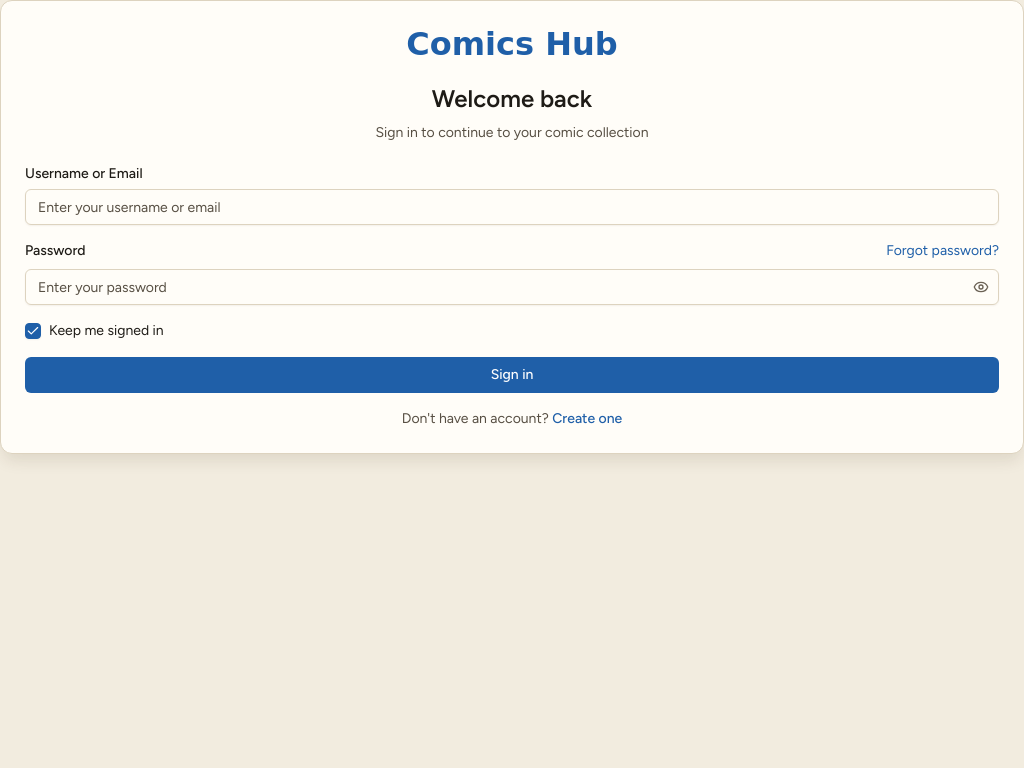
LoginPage › dismisses error banner when dismiss is clicked
The image size is (1024, 768).
In the field labelled "Username or Email": (512,207) top-left (25, 189), bottom-right (999, 225), type "testuser"
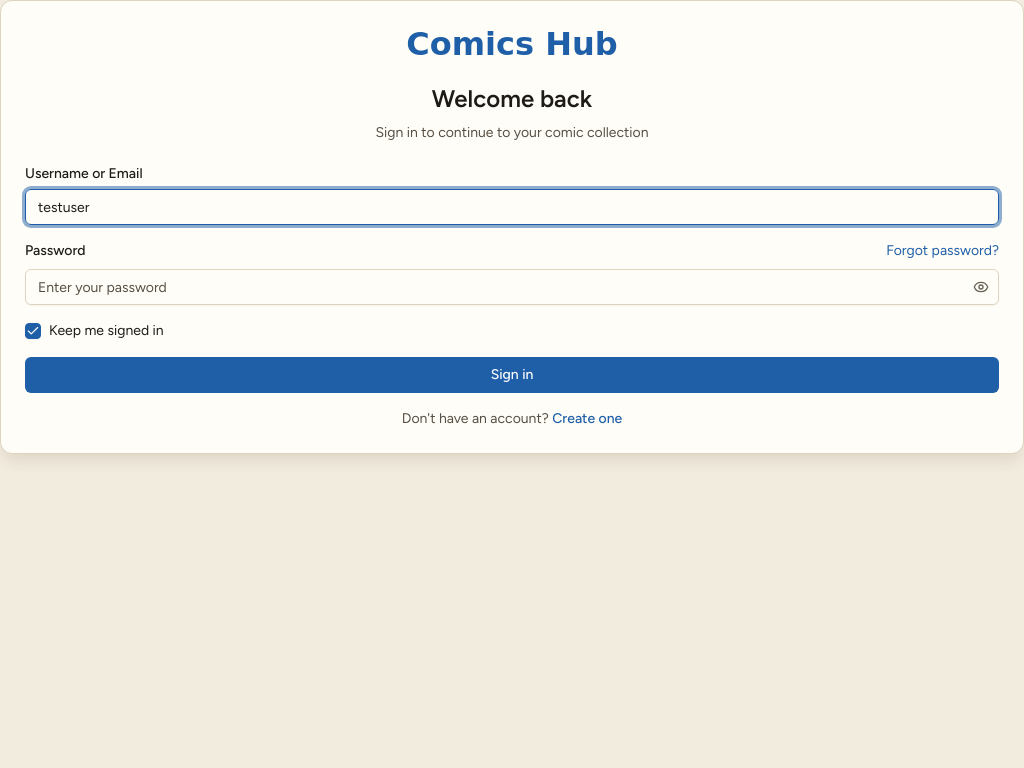
In the password field labelled "Password": (512,287) top-left (25, 269), bottom-right (999, 305), type "Password1!"
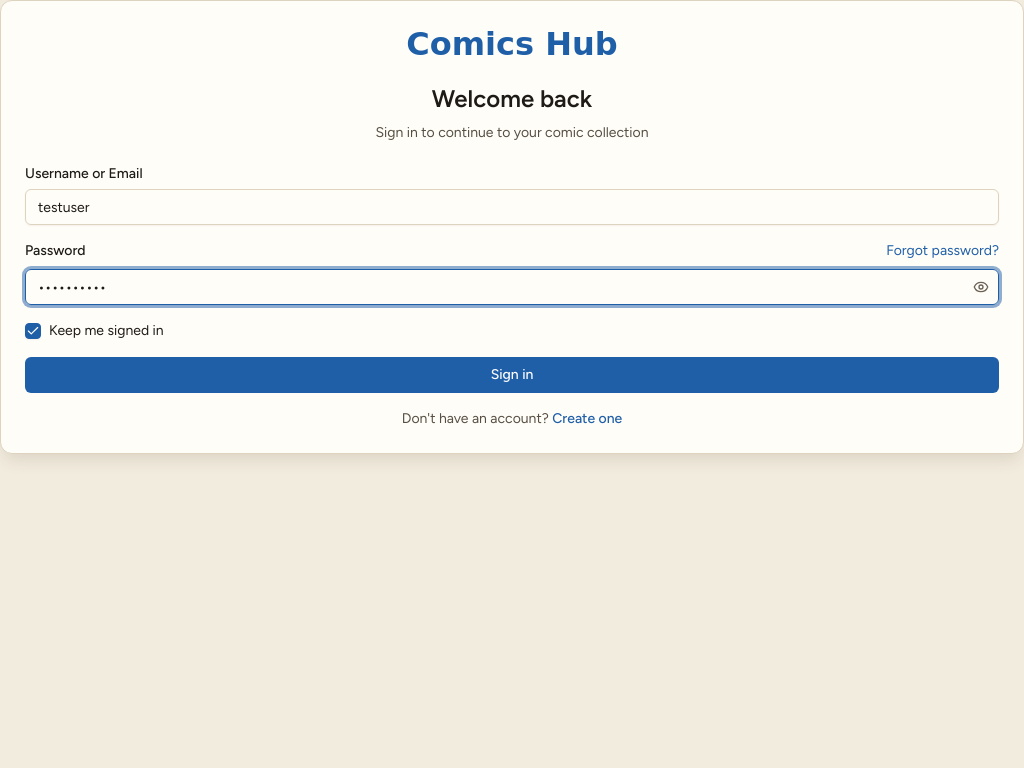
Click the button "Sign in": (512,375) top-left (25, 357), bottom-right (999, 393)
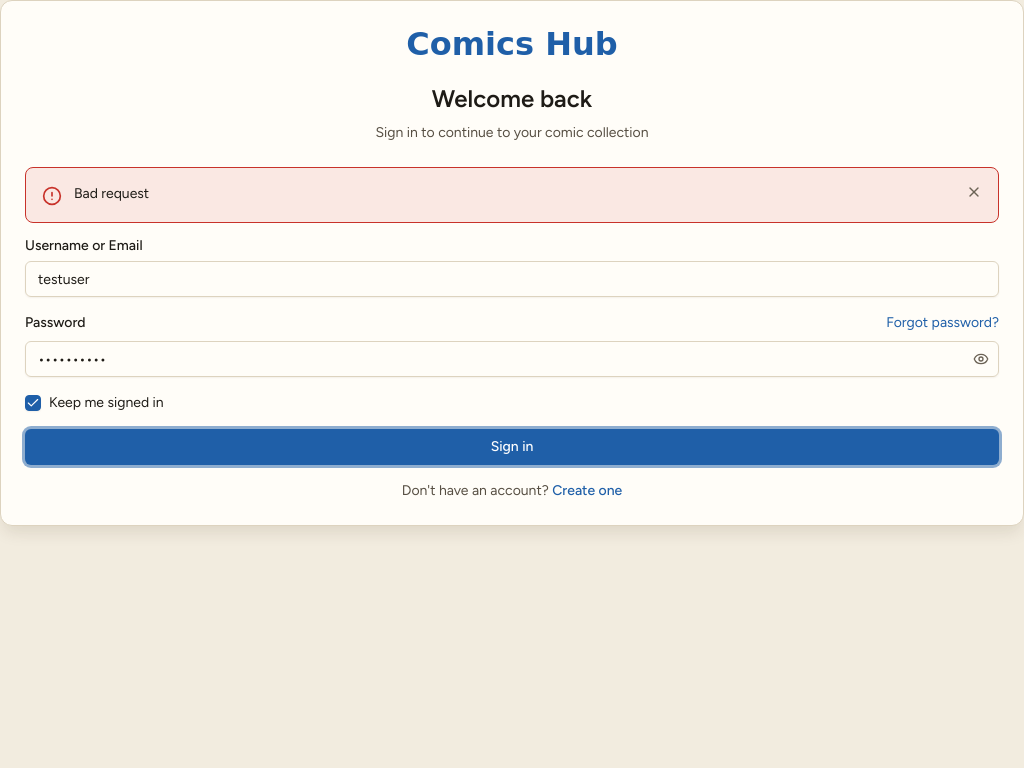
Result: the text "Bad request" is shown at top-left (74, 185), bottom-right (149, 202)
Click the button named "Dismiss error": (974,192) top-left (966, 184), bottom-right (982, 200)
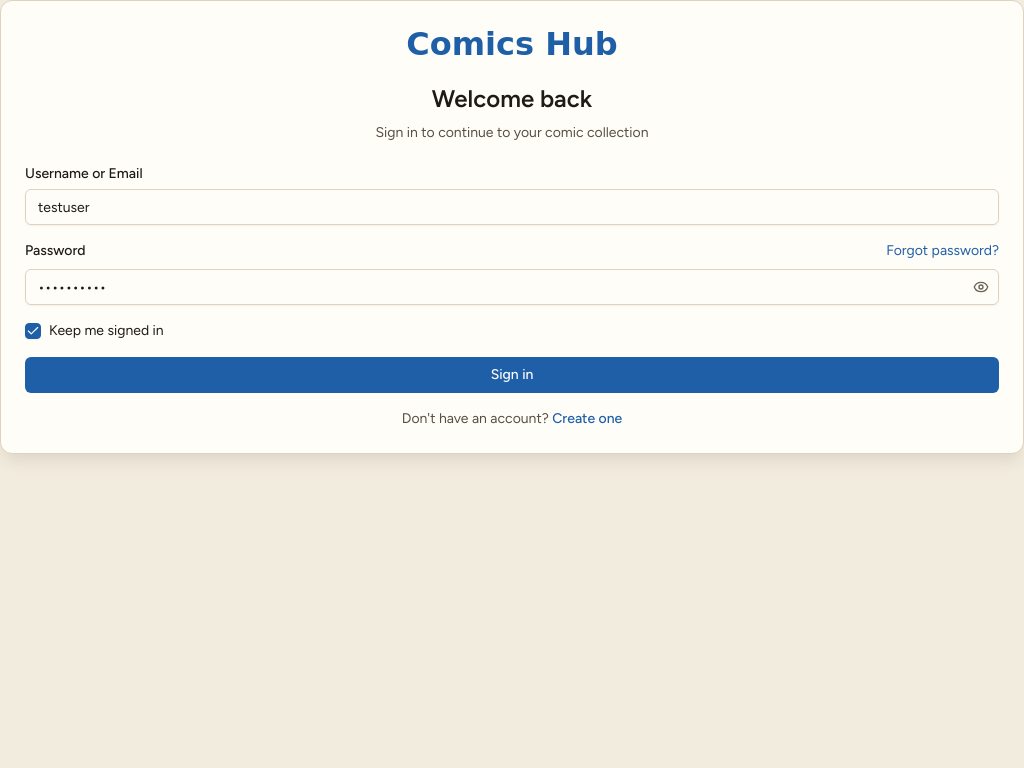
Result: the text "Bad request" is gone
